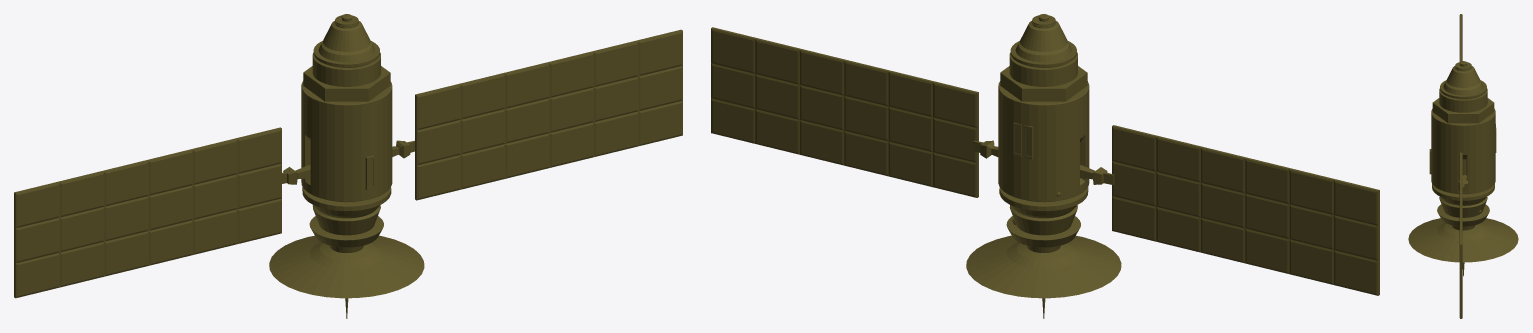
File: uydu_1.fbx
3 renders of one model, left to right at view 1: azimuth 30°, elevation 25°; view 2: azimuth 150°, elevation 25°; view 3: azimuth 270°, elevation 25°, orthographic. The views are drawn at different scales.
Visible parts, largest first — view 1: uydu; view 2: uydu; view 3: uydu.
Boxes of the visible parts, x1,y1,x2,y2 form: uydu: (14,14,682,318); uydu: (711,14,1379,318); uydu: (1408,14,1518,318).
Size of the model in its own units: 395 by 171 by 79.72.
